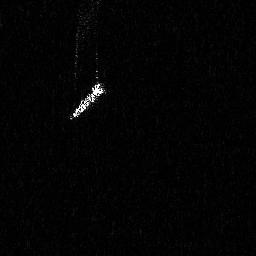ship: (68, 80, 107, 120)
